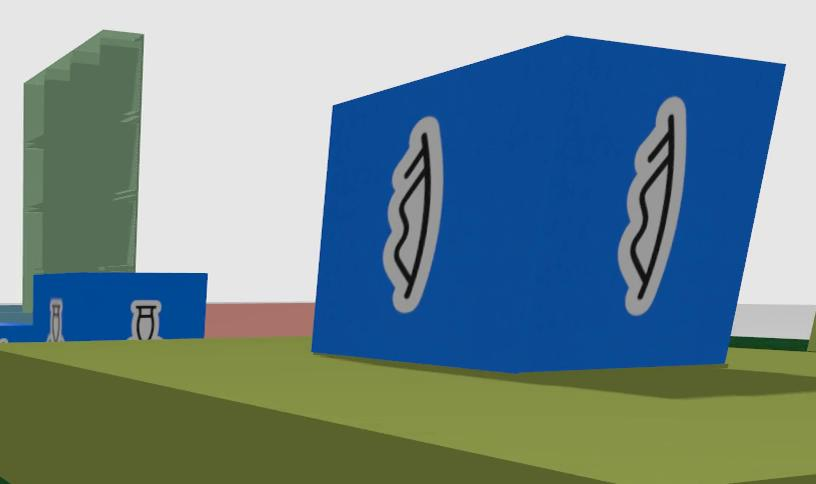KFS_REAL: (313, 37, 783, 372), (618, 97, 686, 315), (0, 272, 206, 342), (0, 274, 206, 341), (382, 116, 445, 313), (129, 299, 161, 338), (46, 300, 63, 340)
